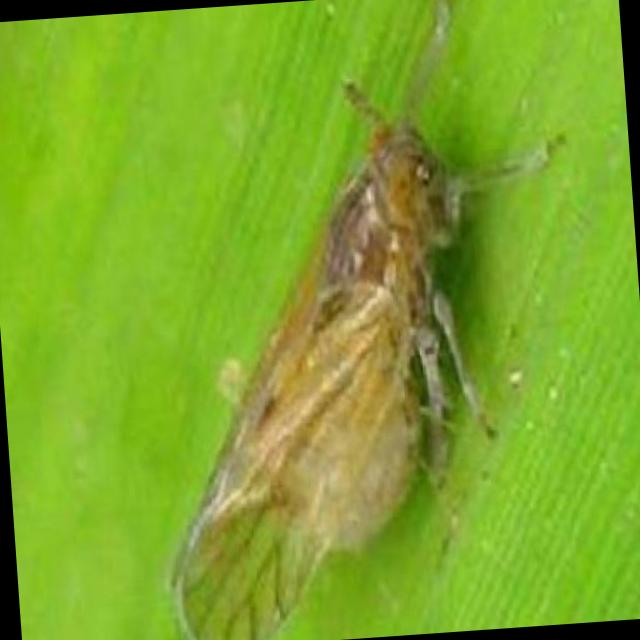brown-planthopper: (137, 87, 500, 640)
